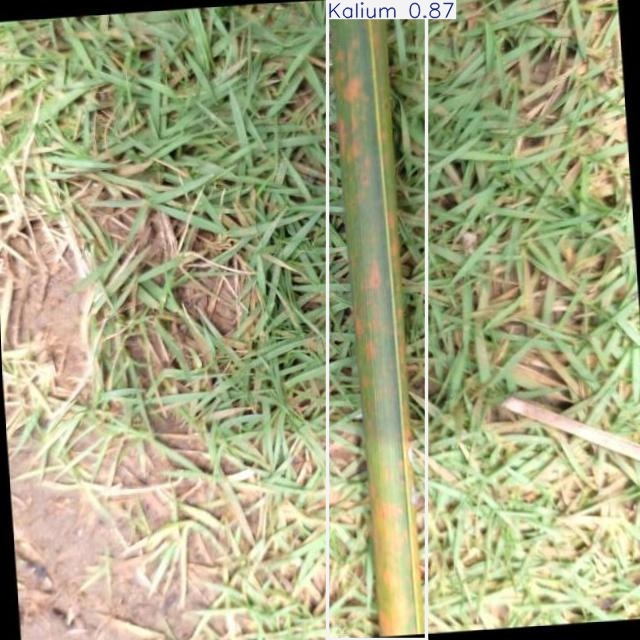Kalium: (327, 0, 426, 640)
